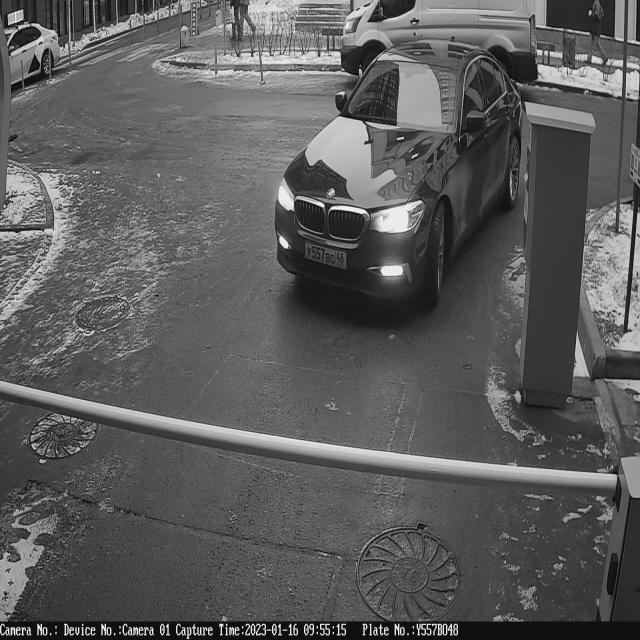car-plate-numbers: (304, 238, 350, 275)
